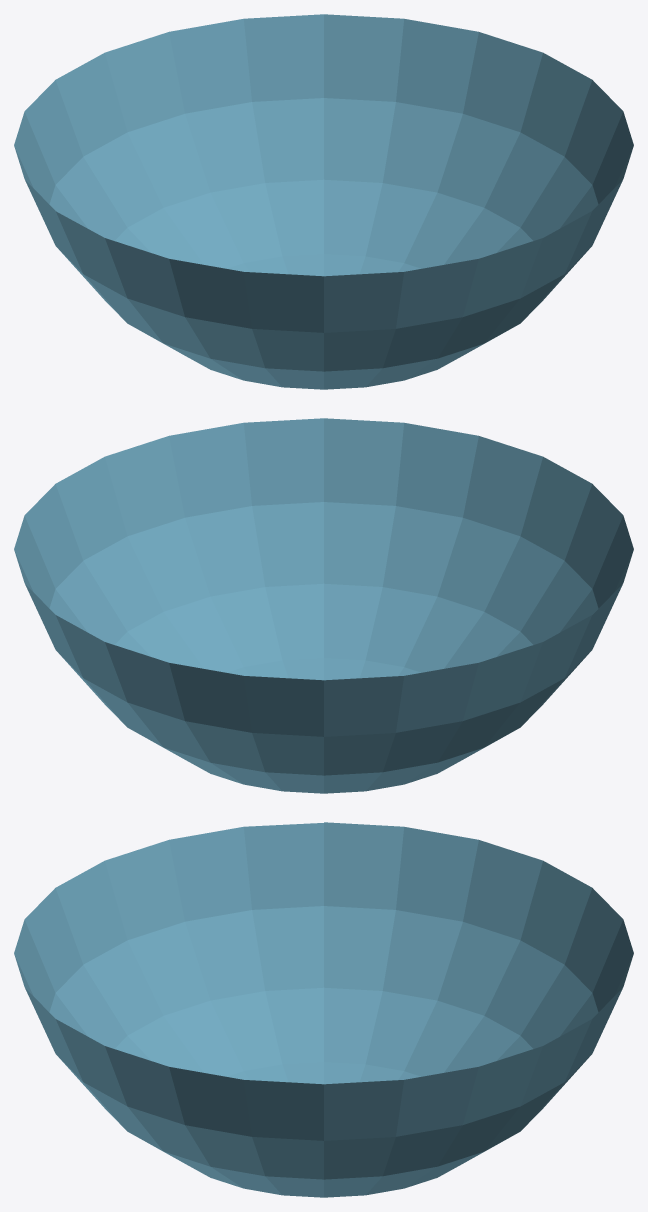
3 views of the same model, one above another, from view 1: azimuth 30°, elevation 25°; view 2: azimuth 150°, elevation 25°; view 3: azimuth 270°, elevation 25° (orthographic).
Parts seen in each view (by area): view 1: mesh1_mesh1-geometry; view 2: mesh1_mesh1-geometry; view 3: mesh1_mesh1-geometry.
Boxes of the visible parts, box(x1,y1,x2,y2) form: mesh1_mesh1-geometry: box(14, 14, 633, 389); mesh1_mesh1-geometry: box(14, 418, 633, 793); mesh1_mesh1-geometry: box(14, 822, 633, 1197).
Bounding box in the file's own units: 0.6824 × 0.2618 × 0.6824.
